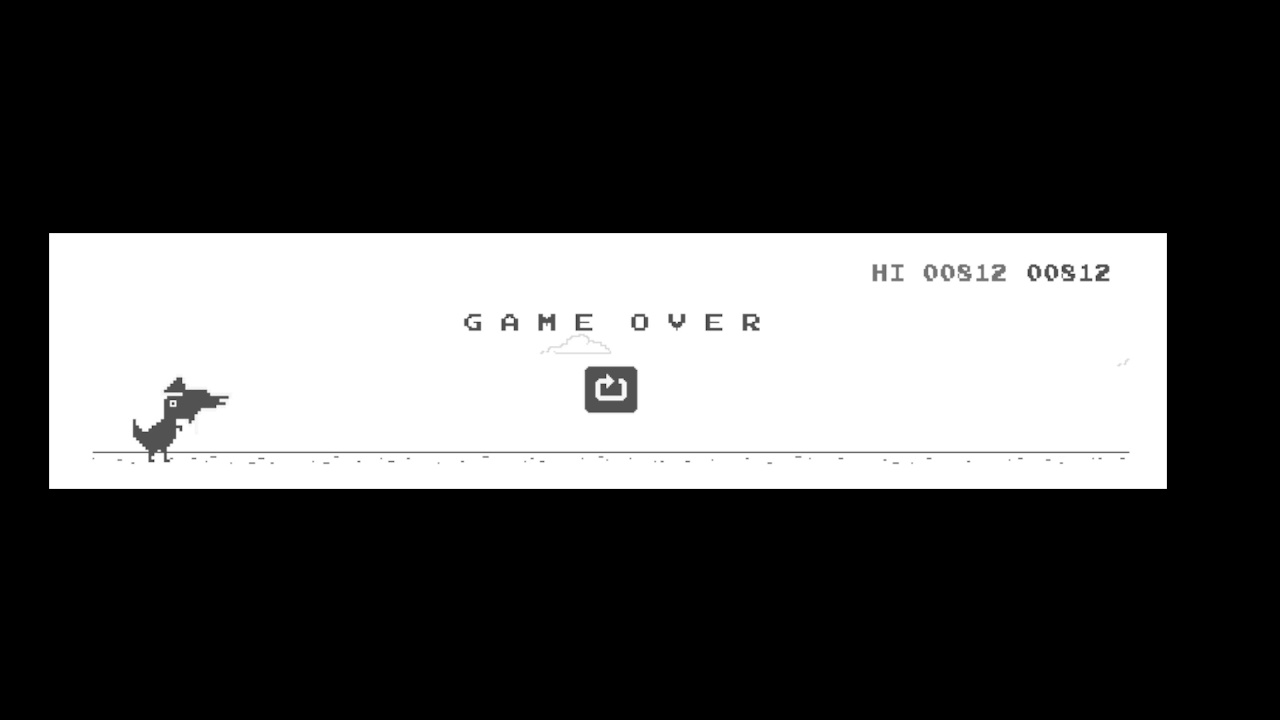birdmid: (170, 378, 221, 487)
dino: (129, 402, 187, 465)
